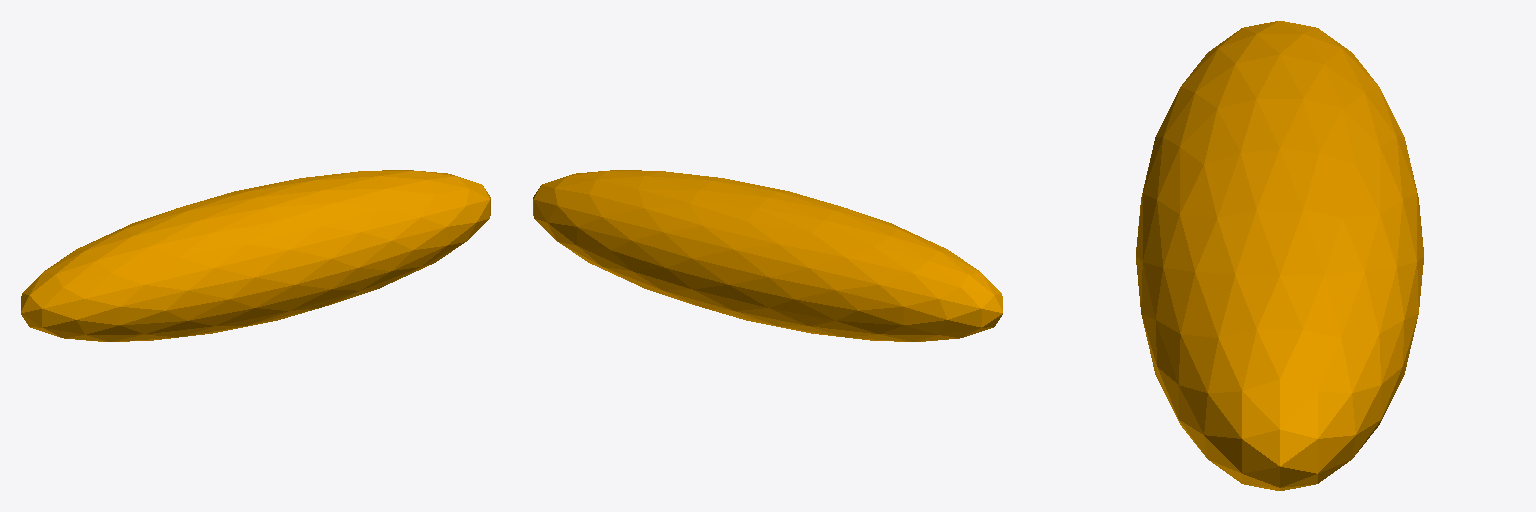
The robot description file, URDF, robot "banana":
<?xml version='1.0' encoding='utf-8'?>
<robot name="banana">
  <link name="body">
    <inertial>
      <origin xyz="0.0 0.0 0.0002692328790986696" />
      <mass value="0.1" />
      <inertia ixx="2.441055011432202e-05" iyy="0.0001876670648757123" izz="0.00019312737083521645" ixy="0.0" ixz="-9.395863322381653e-23" iyz="5.872414576488533e-24" />
    </inertial>
    <collision>
      <geometry>
        <mesh filename="part_00.obj" />
      </geometry>
    </collision>
    <visual>
      <geometry>
        <mesh filename="visual.obj" />
      </geometry>
    </visual>
  </link>
</robot>

--- Render facts (derived) ---
3 views of the same robot in one strip: view 1: azimuth 30°, elevation 25°; view 2: azimuth 150°, elevation 25°; view 3: azimuth 270°, elevation 25° (orthographic).
Robot: banana — 1 links, 0 joints (none); root link body; default pose: every joint at zero.
Links seen in each view (by area): view 1: body; view 2: body; view 3: body.
Link boxes in pixels (x1,y1,x2,y2): body: (21, 170, 490, 341); body: (533, 170, 1002, 341); body: (1136, 21, 1423, 490).
Bounding box of the posed robot: 0.19 × 0.055 × 0.0419 m (x, y, z).
Meshes: 1 distinct files referenced, 1 mesh visuals loaded (1 OBJ).
